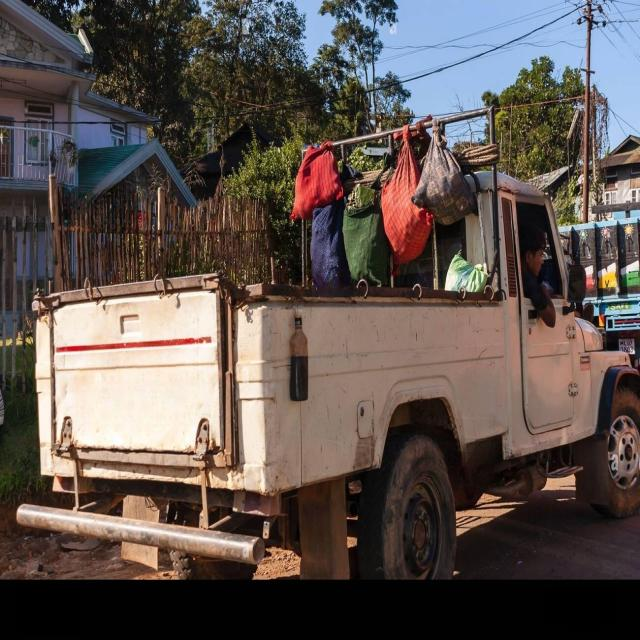truck: (35, 172, 640, 577)
